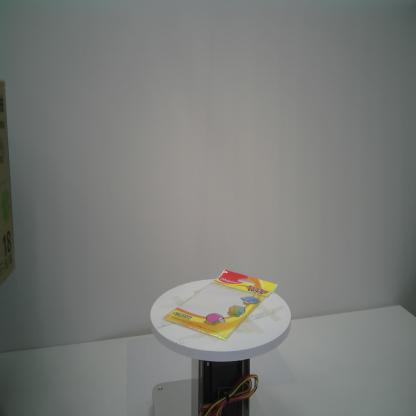Stationery: (162, 266, 278, 346)
